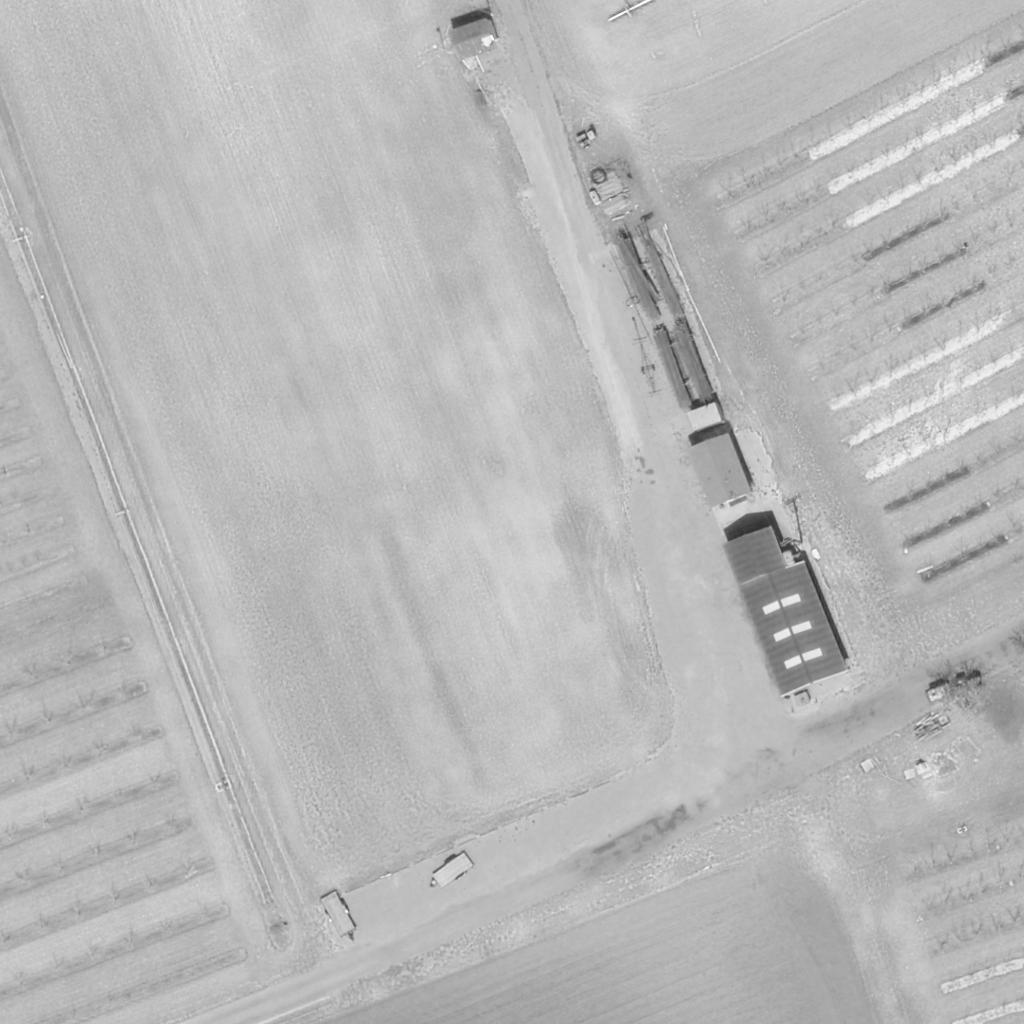vehicle: (953, 670, 985, 696)
